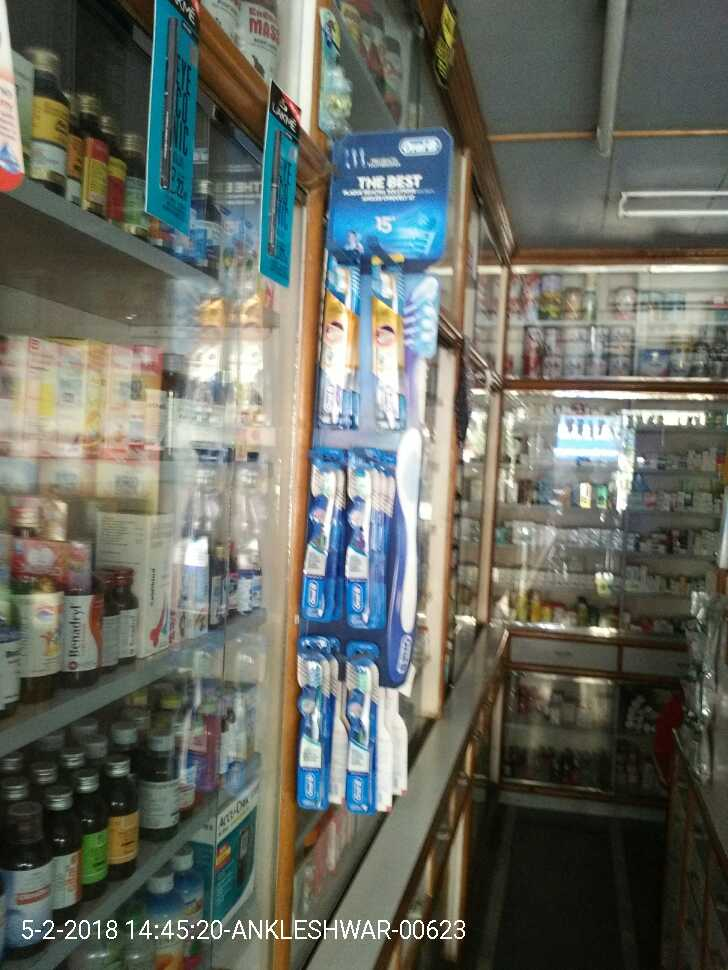oralb: (340, 664, 389, 812), (293, 643, 333, 808), (307, 455, 342, 632), (320, 272, 361, 419), (352, 469, 390, 622), (374, 265, 406, 411)
